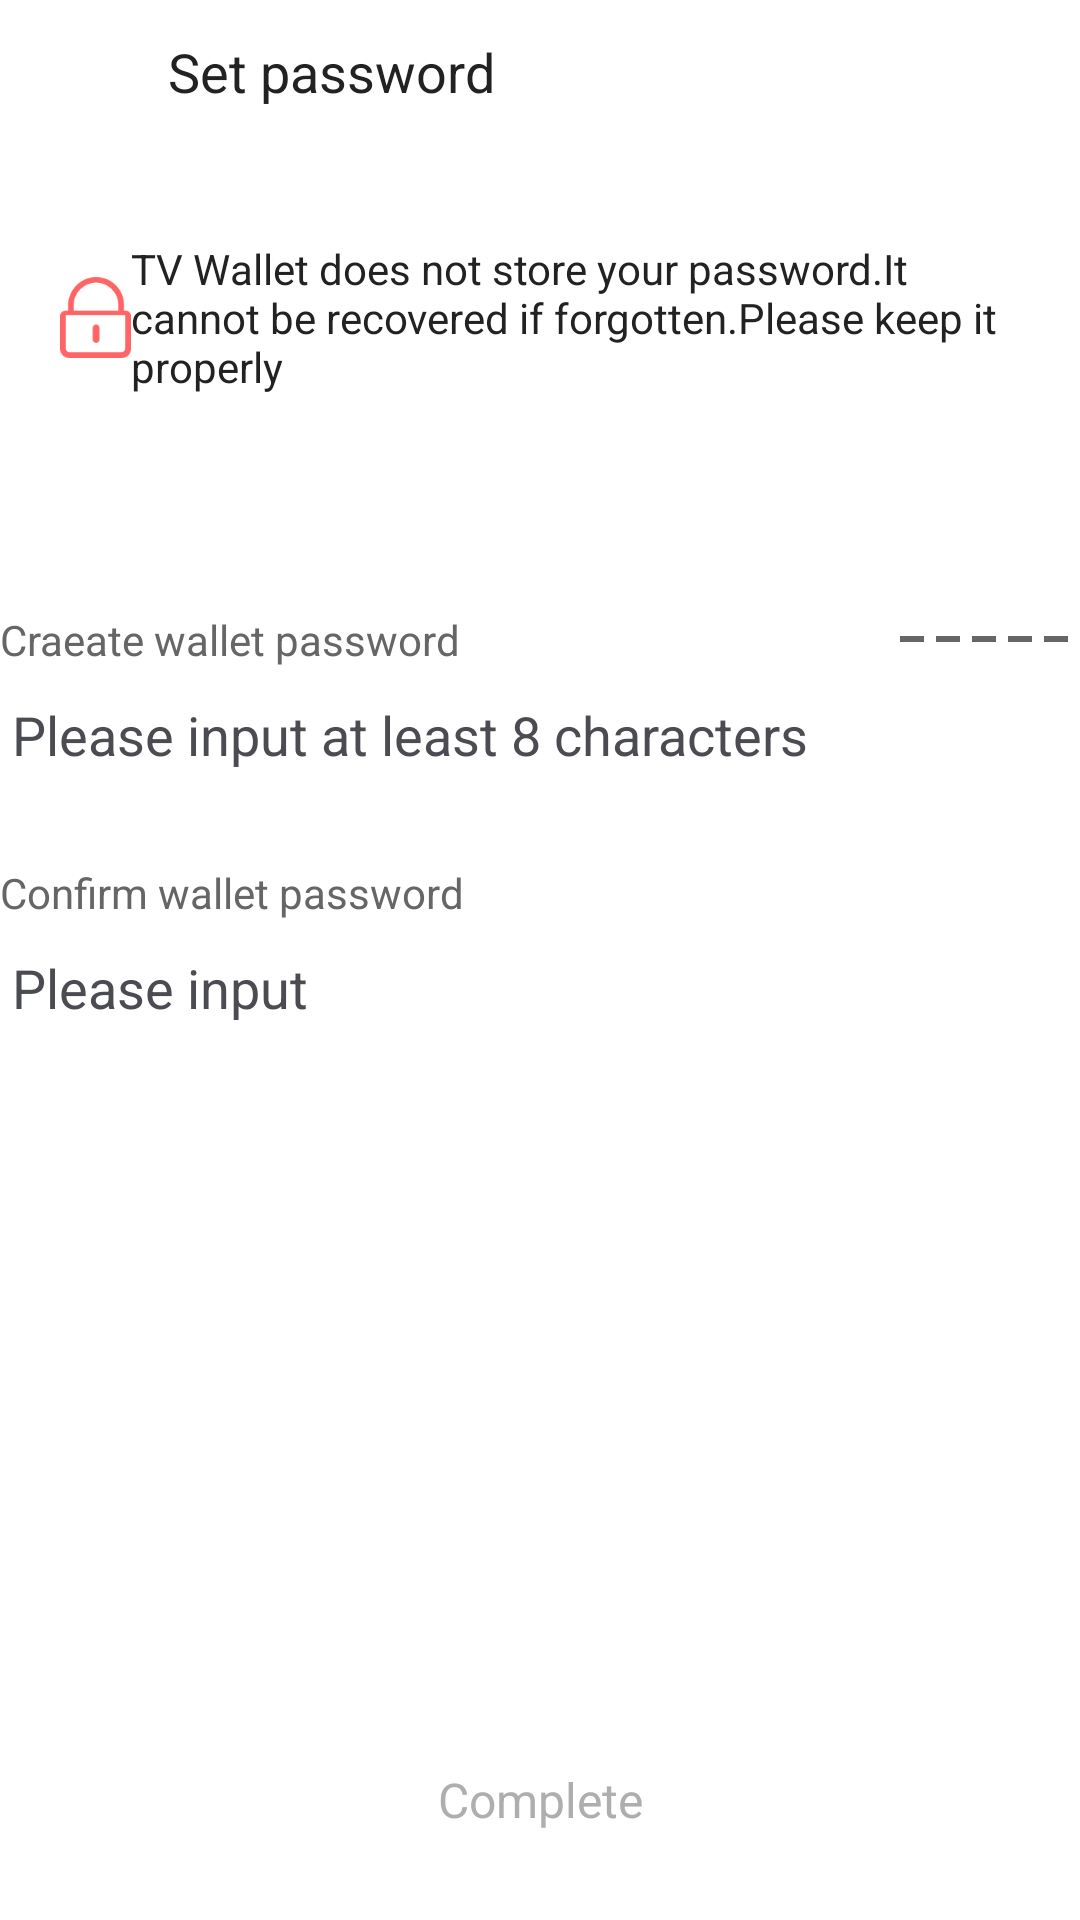

Named icons in this screenshot (1080*1920) and their bounding boxes, (x1, y1, x2, y2):
create wallet lock: (60, 277, 131, 358)
